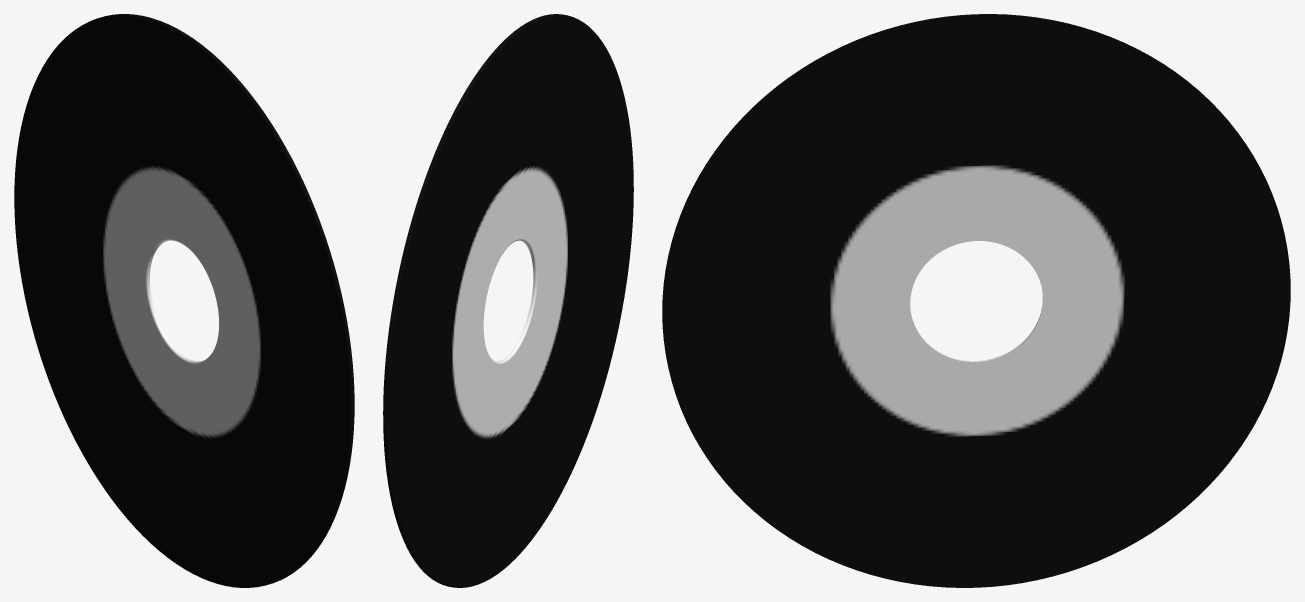
Rendered from DjackzVinyl.fbx.
3 renders of one model, left to right at view 1: azimuth 30°, elevation 25°; view 2: azimuth 150°, elevation 25°; view 3: azimuth 270°, elevation 25°, orthographic. The views are drawn at different scales.
Visible parts, largest first — view 1: #REC0001_45_You_Belong_To_Me_(Comstock); view 2: #REC0001_45_You_Belong_To_Me_(Comstock); view 3: #REC0001_45_You_Belong_To_Me_(Comstock).
Boxes of the visible parts, bbox=[...] form: #REC0001_45_You_Belong_To_Me_(Comstock): bbox=[14, 14, 354, 587]; #REC0001_45_You_Belong_To_Me_(Comstock): bbox=[383, 14, 633, 587]; #REC0001_45_You_Belong_To_Me_(Comstock): bbox=[662, 14, 1290, 587].
Size of the model in its own units: 0.0201 by 0.2216 by 0.2208.
